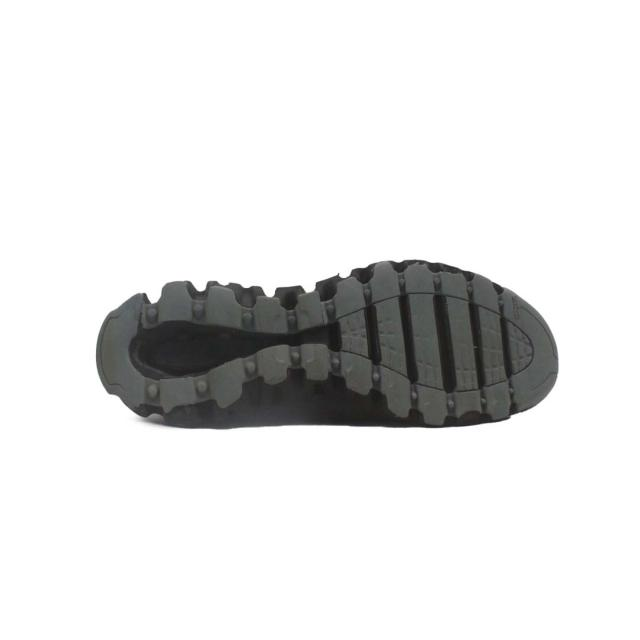outersole: (90, 263, 561, 430)
